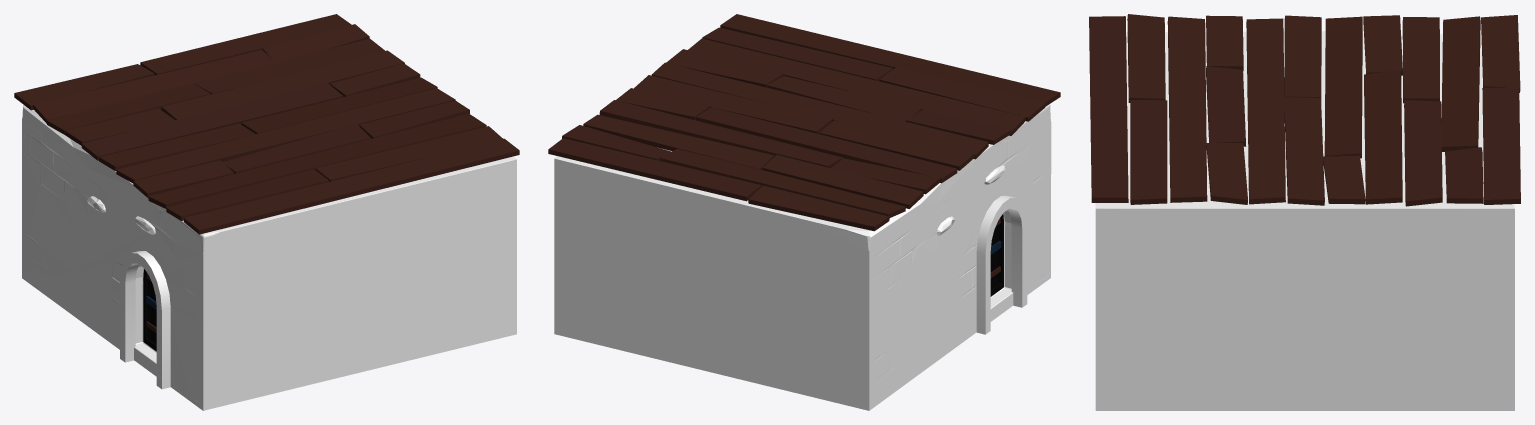
The model's file is civilian_house_39_c.FBX.
The picture shows the model from 3 angles, left to right: view 1: azimuth 30°, elevation 25°; view 2: azimuth 150°, elevation 25°; view 3: azimuth 270°, elevation 25°; orthographic projection. The views are drawn at different scales.
Parts seen in each view (by area): view 1: civilian_house_39_c; view 2: civilian_house_39_c; view 3: civilian_house_39_c.
Boxes of the visible parts, left/top/right/bottom form: civilian_house_39_c: left=14, top=14, right=519, bottom=410; civilian_house_39_c: left=548, top=14, right=1060, bottom=410; civilian_house_39_c: left=1089, top=14, right=1520, bottom=410.
Size of the model in its own units: 628 by 342 by 618.
